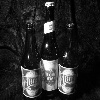beer: (19, 22, 45, 100)
